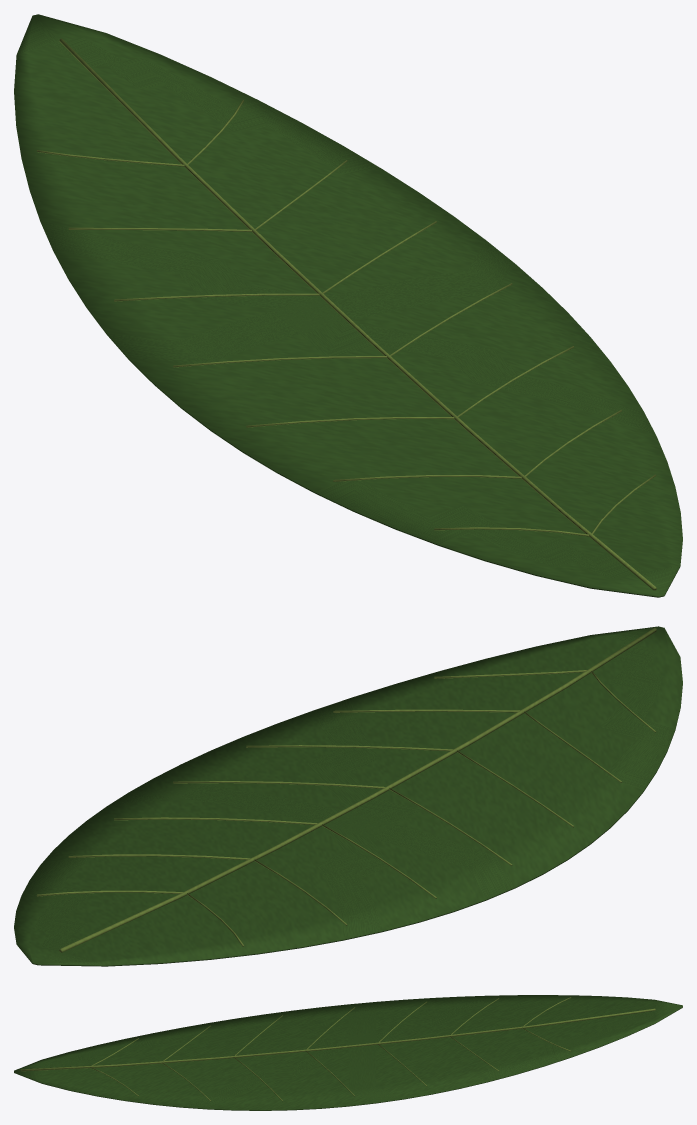
Rendered from milkweed_leaf.fbx.
3 renders of one model, top to bottom at view 1: azimuth 30°, elevation 25°; view 2: azimuth 150°, elevation 25°; view 3: azimuth 270°, elevation 25°, orthographic. The views are drawn at different scales.
Visible parts, largest first — view 1: milkweed_leaf; view 2: milkweed_leaf; view 3: milkweed_leaf.
Part boxes in pixels (left/top/right/bottom): milkweed_leaf: left=14, top=14, right=682, bottom=597; milkweed_leaf: left=14, top=626, right=682, bottom=966; milkweed_leaf: left=14, top=995, right=682, bottom=1110.
Bounding box in the file's own units: 7 × 2.12 × 19.5.
